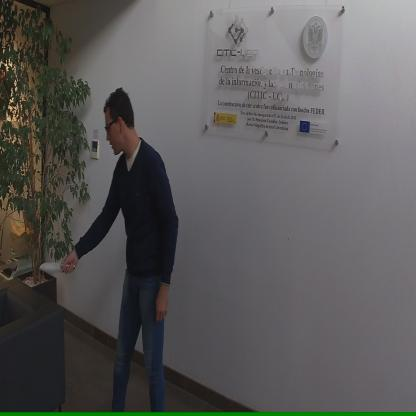knife: (38, 258, 77, 275)
